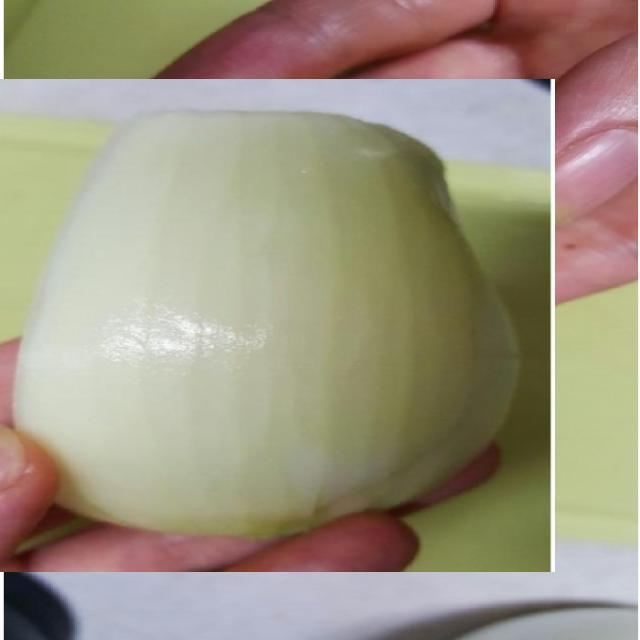Onion: (0, 78, 555, 572)
